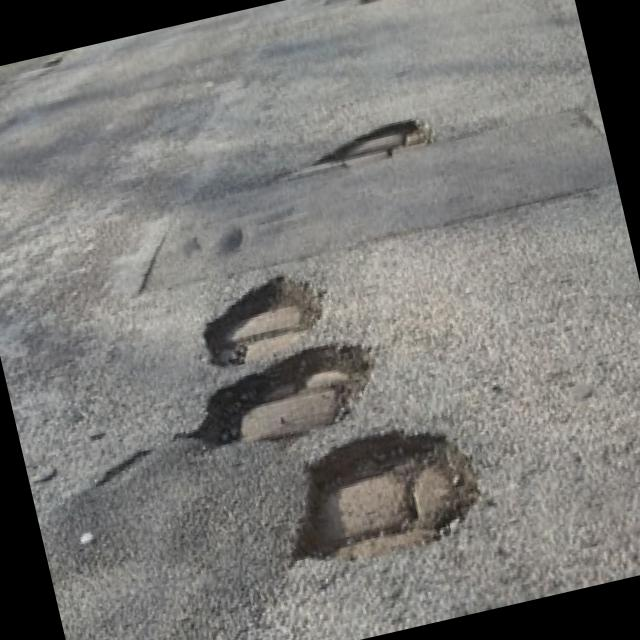Potholes: (264, 408, 502, 582), (159, 328, 410, 463), (186, 260, 352, 356), (316, 95, 444, 178), (353, 0, 459, 21)
